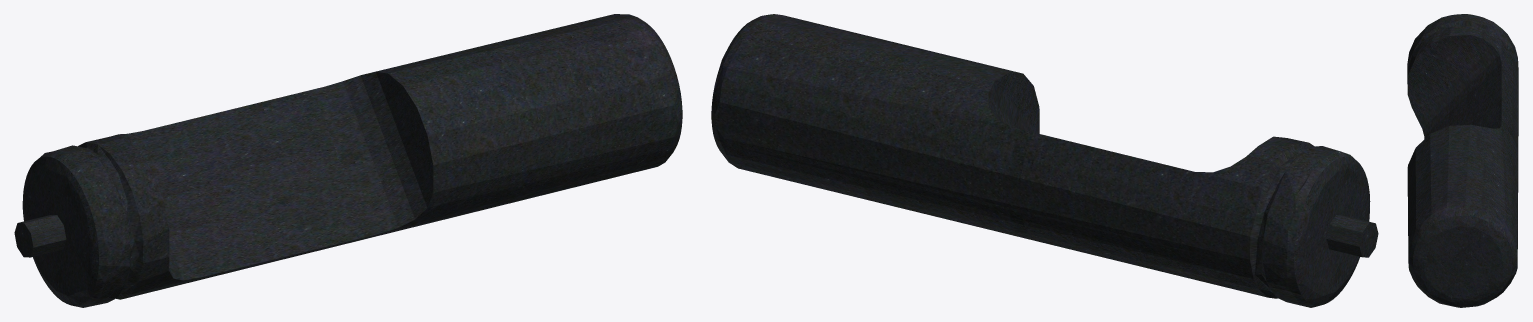
The model's file is Ejector.dae.
3 views of the same model, side by side, from view 1: azimuth 30°, elevation 25°; view 2: azimuth 150°, elevation 25°; view 3: azimuth 270°, elevation 25° (orthographic). The views are drawn at different scales.
Visible parts, largest first — view 1: Ejector; view 2: Ejector; view 3: Ejector.
Part boxes in pixels (x1,y1,x2,y2): Ejector: (14,14,682,307); Ejector: (711,14,1378,307); Ejector: (1407,14,1518,307).
Size of the model in its own units: 0.0118 by 0.0026 by 0.00261.
1 material, 1 textured.
